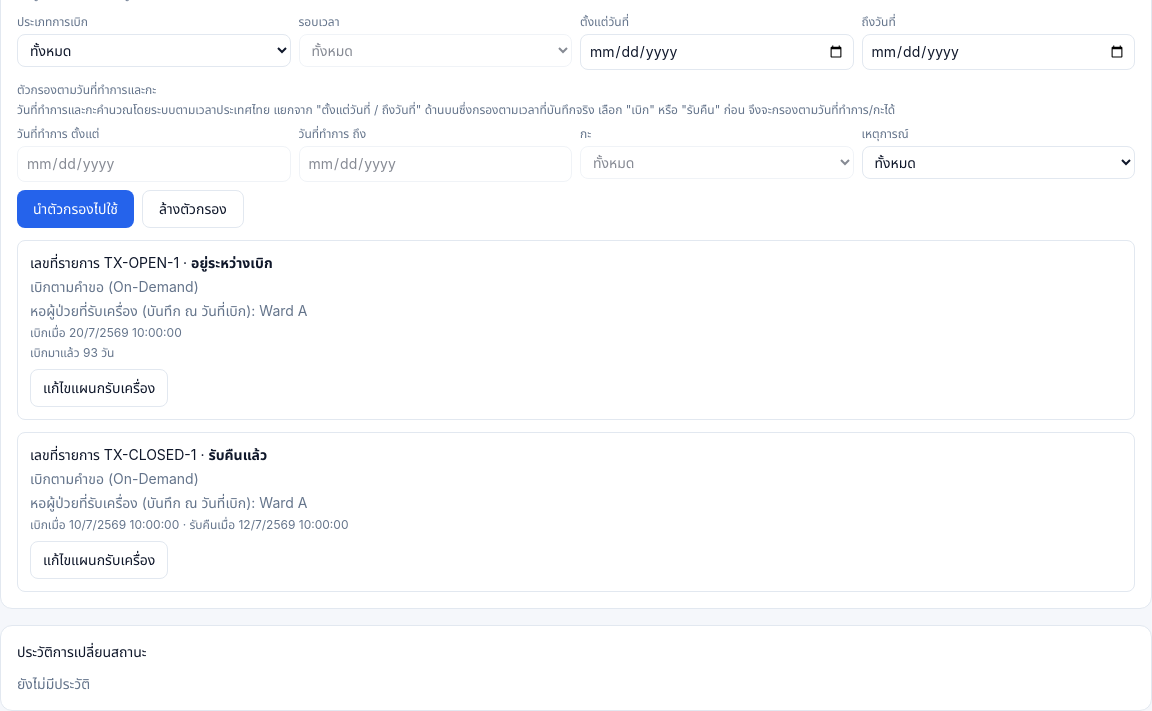
Test case: EquipmentDetailPage transaction history (Roadmap PR9B review round 2, Finding 3) › admin can open ward correction for an OPEN transaction
This screenshot has width=1152, height=711.
(page scrolled)
expect the text "TX-OPEN-1" is shown: met, box [104,254,179,271]
expect the text "TX-CLOSED-1" is shown: met, box [104,446,196,463]
Click the button "แก้ไขแผนกรับเครื่อง" below "TX-OPEN-1": (99, 388) [30,369,168,407]
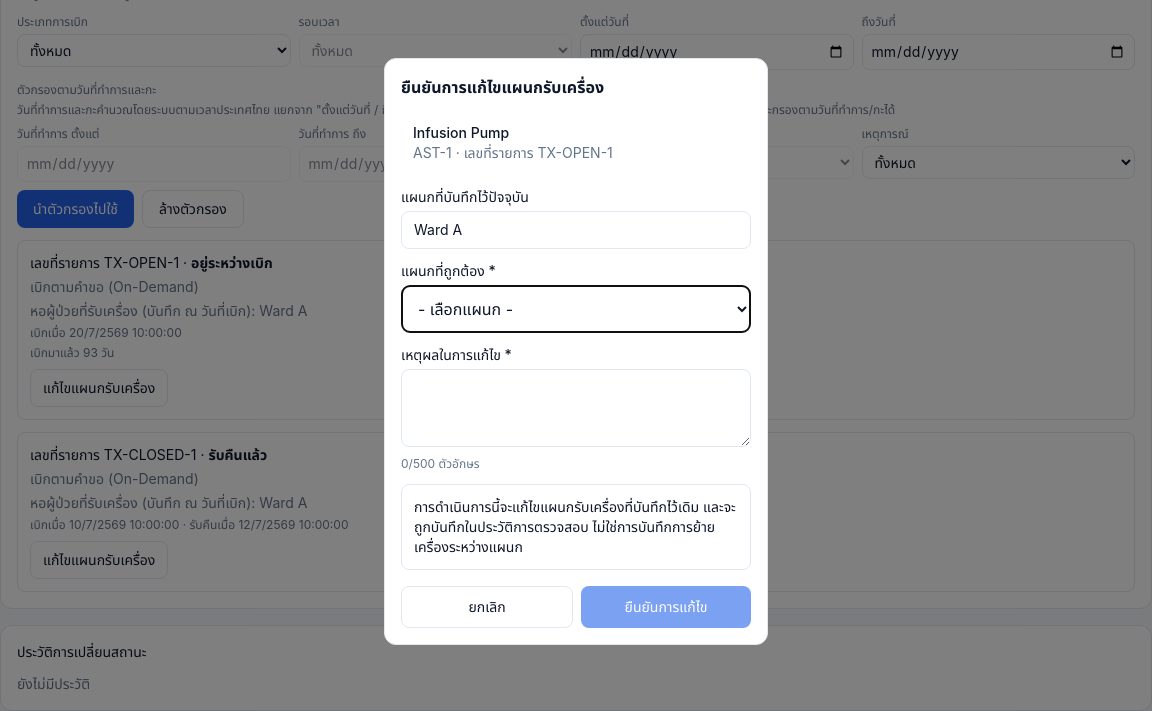
expect the dialog is shown: met, box [384,58,768,644]
